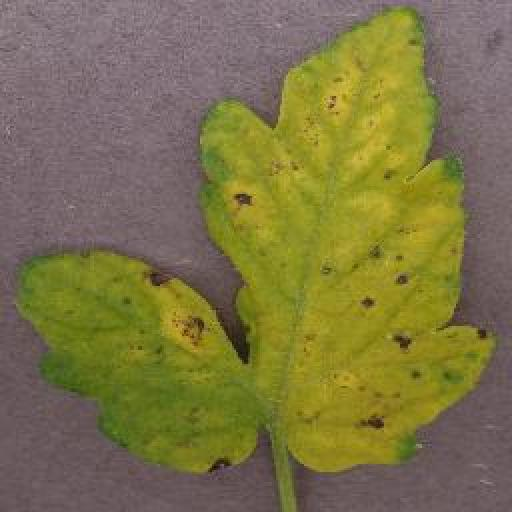disease_tomato: (15, 11, 499, 480)
